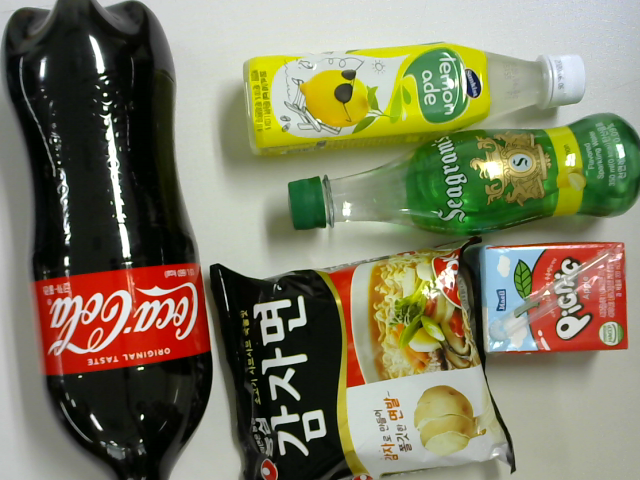Coca_Cola_1.5L: (1, 2, 213, 480)
Picnic_Apple: (481, 244, 625, 358)
Potato: (205, 240, 518, 480)
Seagram_Lemon_Carbonated_Water: (277, 118, 640, 241)
Sunkist_Lemonaid_Pet: (241, 36, 587, 146)
